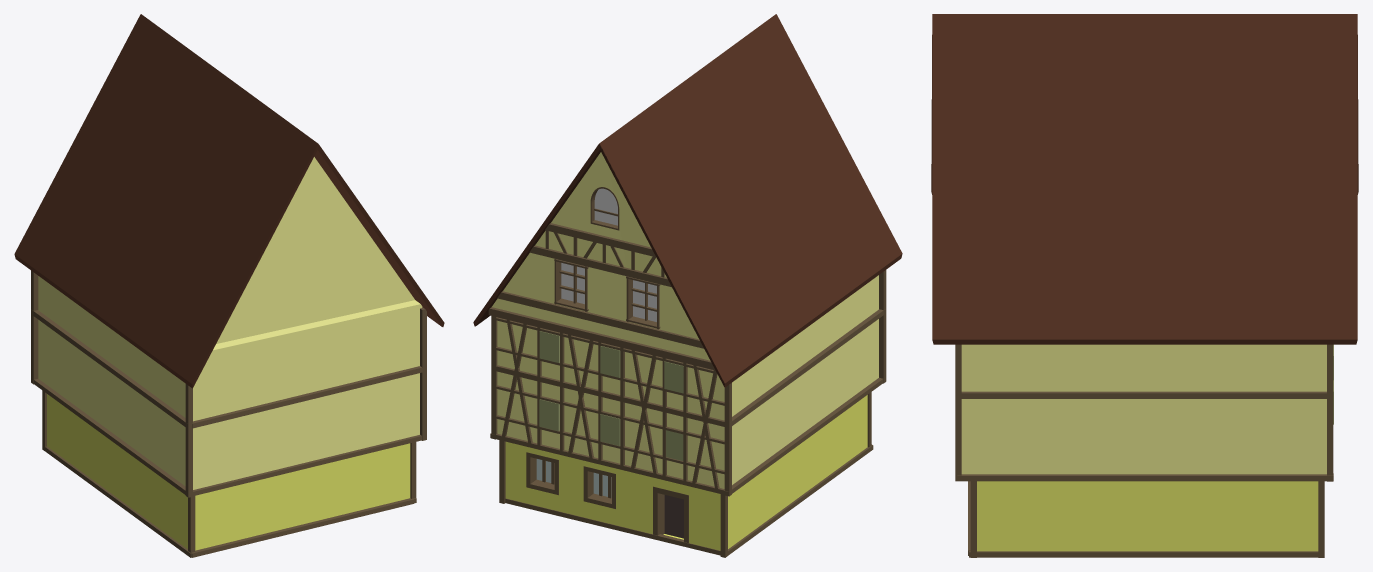
Rendered from house3ver2.fbx.
3 views of the same model, side by side, from view 1: azimuth 30°, elevation 25°; view 2: azimuth 150°, elevation 25°; view 3: azimuth 270°, elevation 25° (orthographic). The views are drawn at different scales.
Parts seen in each view (by area): view 1: Roof, Floor_2, Floor_3, Base_Stone, 円, 立方体.094, 立方体.098, 立方体.089, 立方体.093, 立方体.088, 立方体.097, 立方体.090 (+2 smaller); view 2: Roof, Floor_2, Base_Stone, 円, Floor_3, 立方体.031, 立方体.061, 立方体.093, 立方体.092, 立方体.088, 立方体.030, 立方体.052 (+27 smaller); view 3: Roof, Floor_2, Base_Stone, Floor_3, 立方体.087, 立方体.081, 立方体.095, 立方体.022, 立方体.090, 立方体.024, 立方体.096.
Boxes of the visible parts, x1,y1,x2,y2 form: Roof: (14,14,444,388); Floor_2: (38,320,419,489); Floor_3: (38,276,422,421); Base_Stone: (47,394,410,550); 円: (216,157,414,343); 立方体.094: (192,366,423,428); 立方体.098: (191,498,414,557); 立方体.089: (192,435,421,496); 立方体.093: (31,310,187,428); 立方体.088: (34,378,185,494); 立方体.097: (45,447,191,557); 立方体.090: (420,307,426,440); Roof: (473,14,902,387); Floor_2: (497,319,878,488); Base_Stone: (505,395,867,550); 円: (492,152,710,360); Floor_3: (497,275,878,420); 立方体.031: (488,307,715,370); 立方体.061: (497,291,703,348); 立方体.093: (730,309,885,427); 立方体.092: (495,365,725,426); 立方体.088: (724,377,883,496); 立方体.030: (495,433,724,494); 立方体.052: (529,245,671,287); Roof: (931,14,1358,344); Floor_2: (961,399,1326,474); Base_Stone: (977,481,1318,551); Floor_3: (961,344,1326,391); 立方体.087: (957,473,1333,481); 立方体.081: (956,391,1326,398); 立方体.095: (969,551,1318,557); 立方体.022: (1327,344,1333,481); 立方体.090: (955,344,961,481); 立方体.024: (1318,481,1324,557); 立方体.096: (970,481,976,557).
Size of the model in its own units: 1275 by 1921 by 1559.
